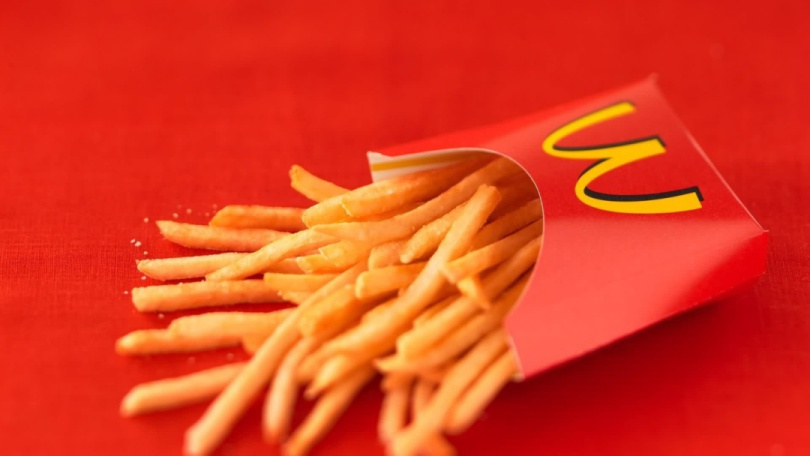mcdonalds: (543, 85, 715, 250)
